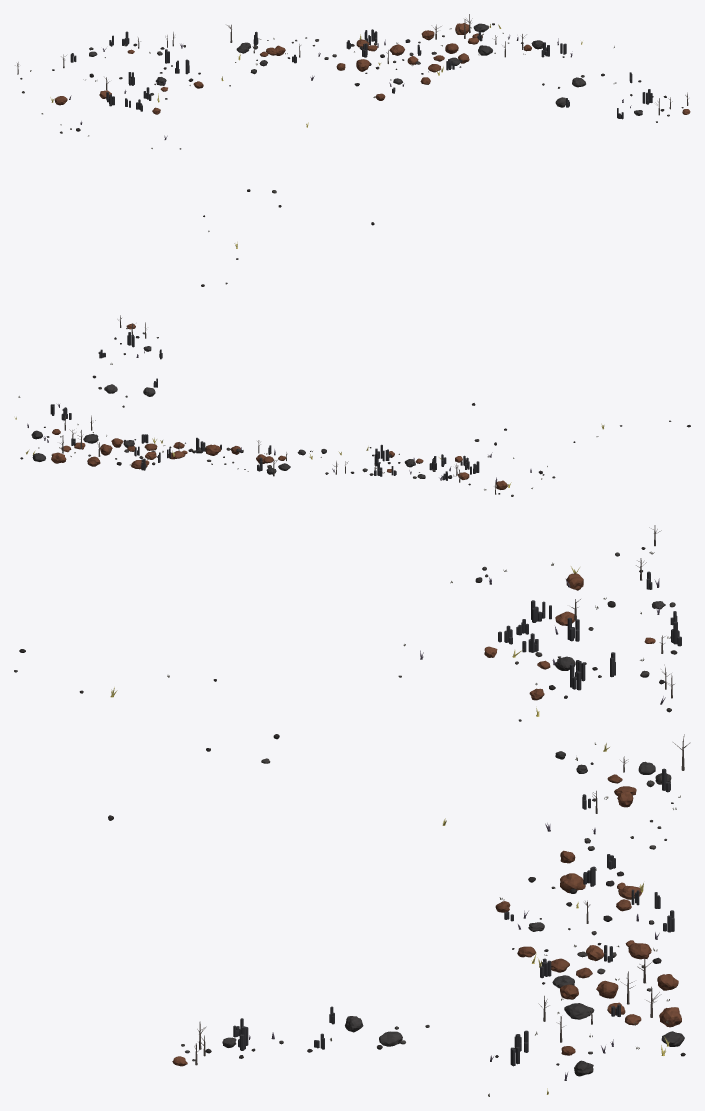
File: ash_land_scatter_c18_28.glb
The picture shows the model from 3 angles, top to bottom: view 1: azimuth 30°, elevation 25°; view 2: azimuth 150°, elevation 25°; view 3: azimuth 270°, elevation 25°; orthographic projection. The views are drawn at different scales.
Parts seen in each view (by area): view 1: ash_land_scatter_c18_28; view 2: ash_land_scatter_c18_28; view 3: ash_land_scatter_c18_28.
Boxes of the visible parts, <box> form: ash_land_scatter_c18_28: <box>15,14,690,286</box>; ash_land_scatter_c18_28: <box>14,315,690,496</box>; ash_land_scatter_c18_28: <box>14,525,690,1096</box>.
Size of the model in its own units: 252 by 39.98 by 162.
